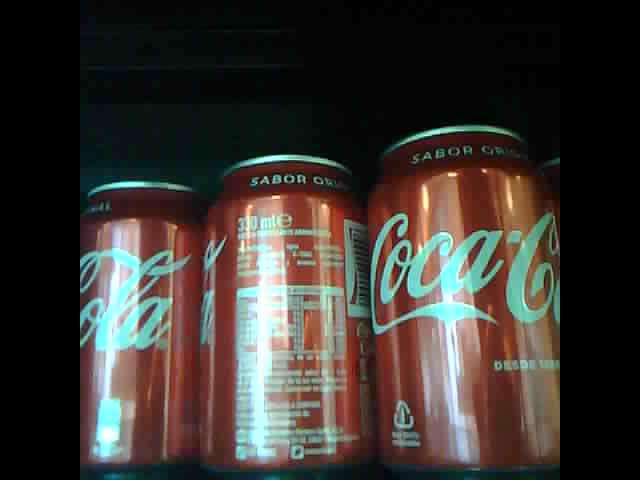coca cola: (361, 121, 560, 474), (200, 155, 372, 473), (80, 183, 195, 471)
